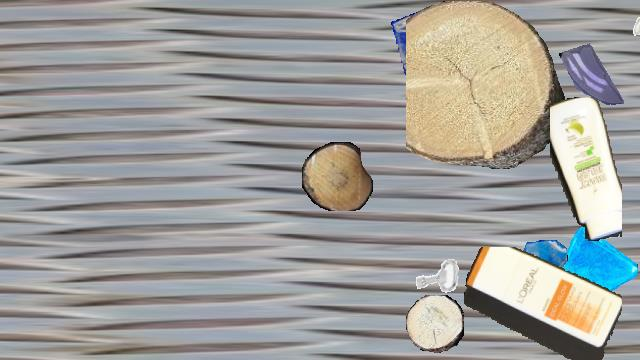glass: (544, 225, 638, 319), (391, 1, 483, 93), (558, 38, 628, 108), (508, 240, 568, 300)
metal: (463, 93, 521, 151), (410, 248, 466, 304), (625, 12, 640, 50)
plastic: (464, 247, 622, 359), (550, 97, 622, 241)
wood: (406, 1, 564, 169), (302, 142, 372, 210), (406, 295, 464, 353)
